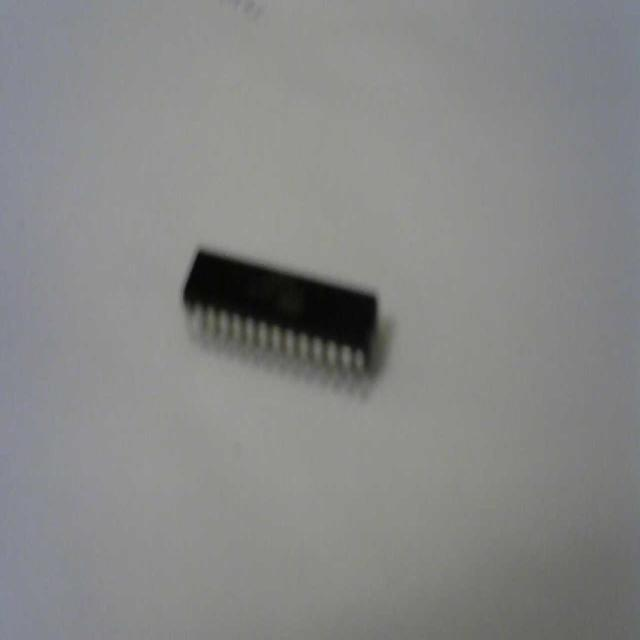atmega: (179, 241, 381, 386)
